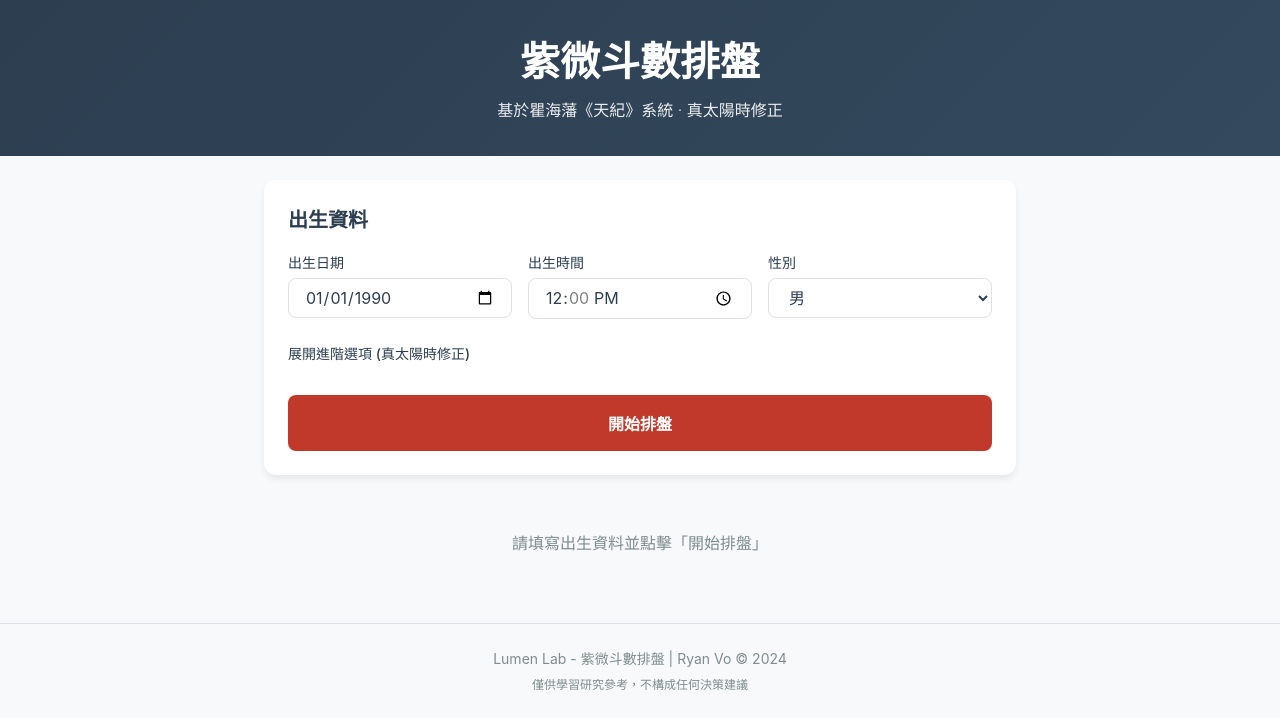
Test: ChartForm › submits form and displays result on success
The width and height of the screenshot is (1280, 718).
Click the button "開始排盤" at (640, 423), box [288,395,992,451]
(page scrolled)
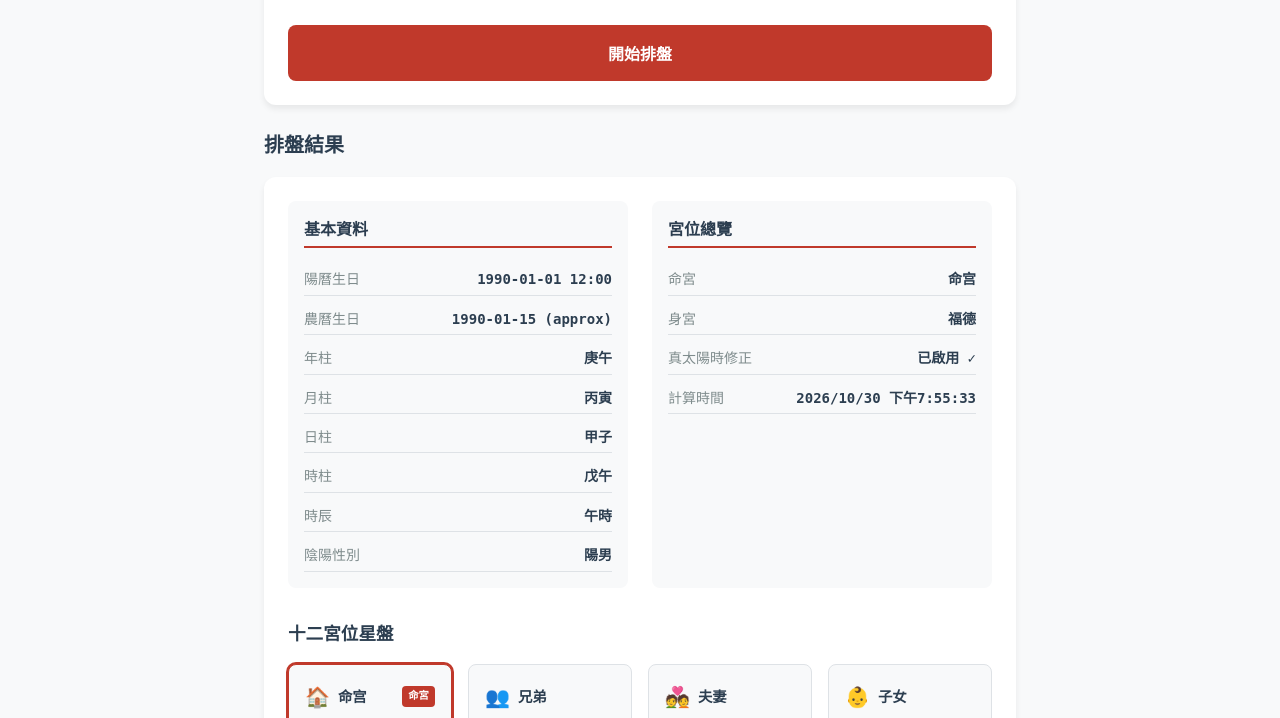
Expected: the heading "排盤結果" is shown, [264,133,344,157]
Expected: the text "庚午" is shown, [584,347,612,370]
Expected: the text "命宫" is shown 2 times, [948,268,976,291]; [338,688,367,705]
